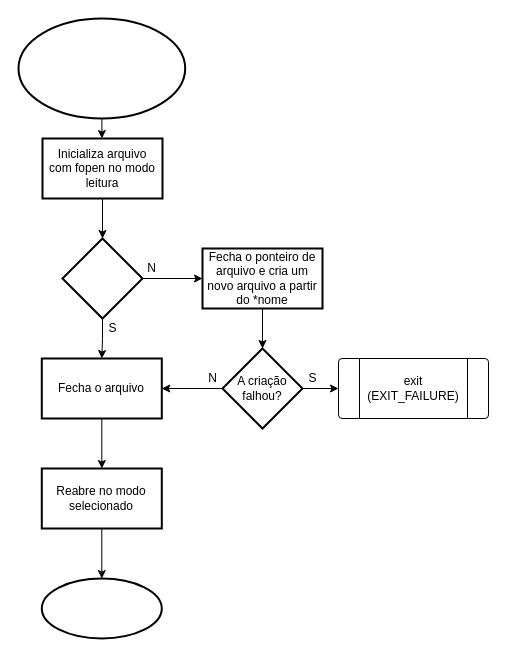
Some shapes in this 506 by 656 pixel diagram are drawn without their labels. Each missing label, with the centre of its shape:
"Inicializa Arquivo (FILE **ptr,char *nome,char *modo)" belongs at (101,68).
"O arquivo existe?" belongs at (102,278).
"Retorna" belongs at (101,608).
